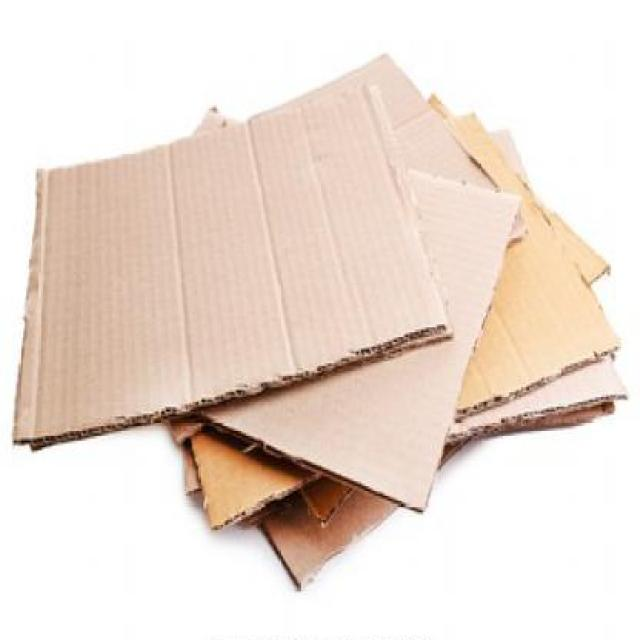box: (12, 60, 630, 598)
